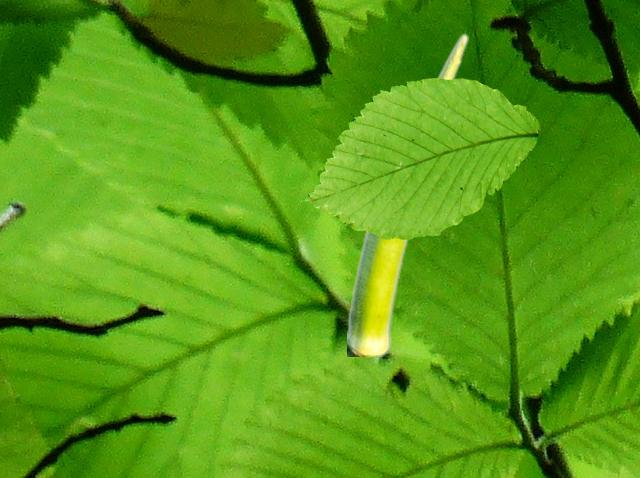okra: (347, 32, 467, 355)
